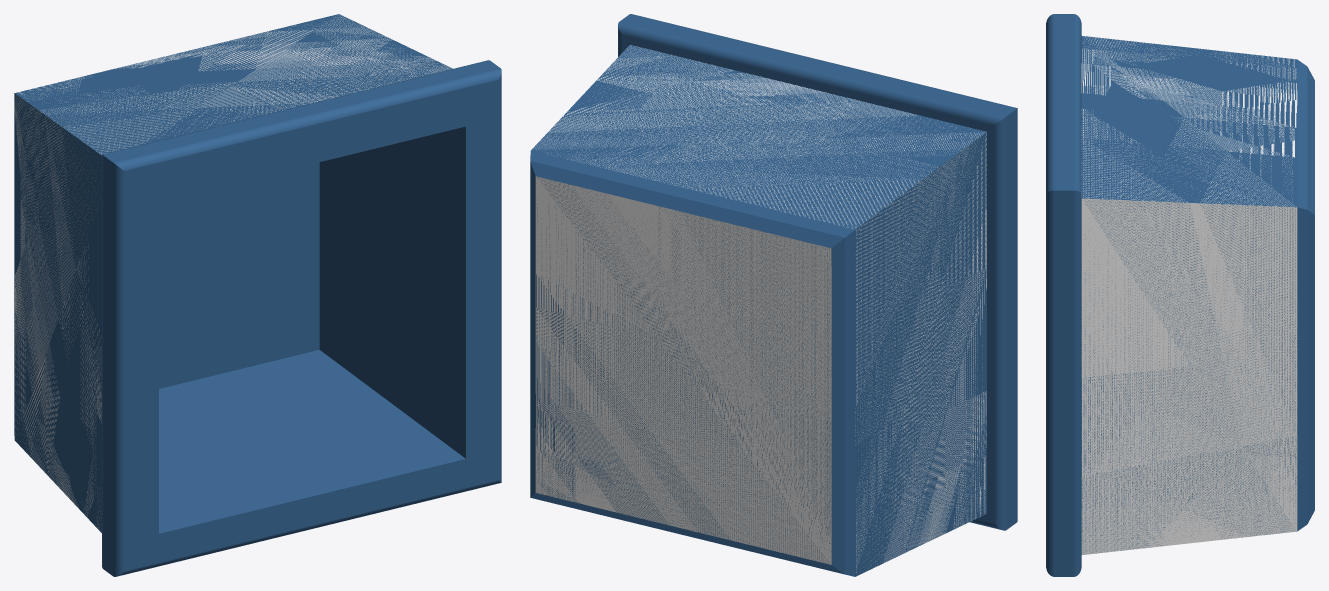
3 views of the same model, side by side, from view 1: azimuth 30°, elevation 25°; view 2: azimuth 150°, elevation 25°; view 3: azimuth 270°, elevation 25° (orthographic). The views are drawn at different scales.
Visible parts, largest first — view 1: recycling box; view 2: recycling box; view 3: recycling box.
Boxes of the visible parts, bbox=[...] form: recycling box: bbox=[14, 14, 501, 576]; recycling box: bbox=[530, 14, 1017, 576]; recycling box: bbox=[1046, 14, 1314, 576].
Size of the model in its own units: 382 by 390 by 246.
